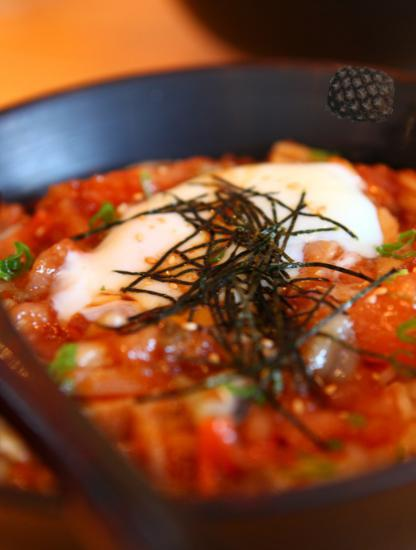Pineapple: (328, 61, 396, 129)
